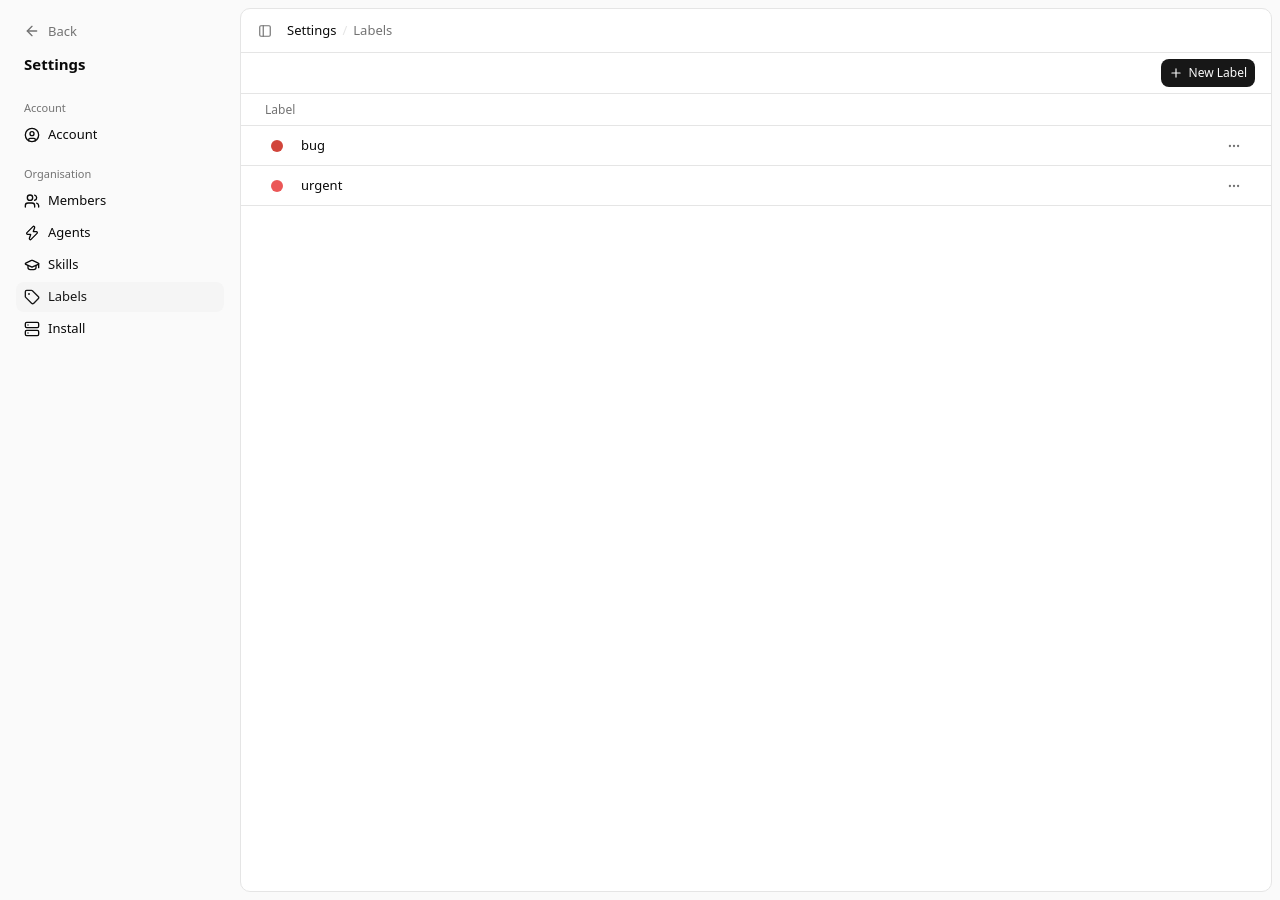
Test case: Settings › Organisation › Labels › Delete asks first and says how many Tasks, open and ended, stop carrying it
Click the button named "More for bug": coordinates (1234, 146) [1221,132,1247,158]
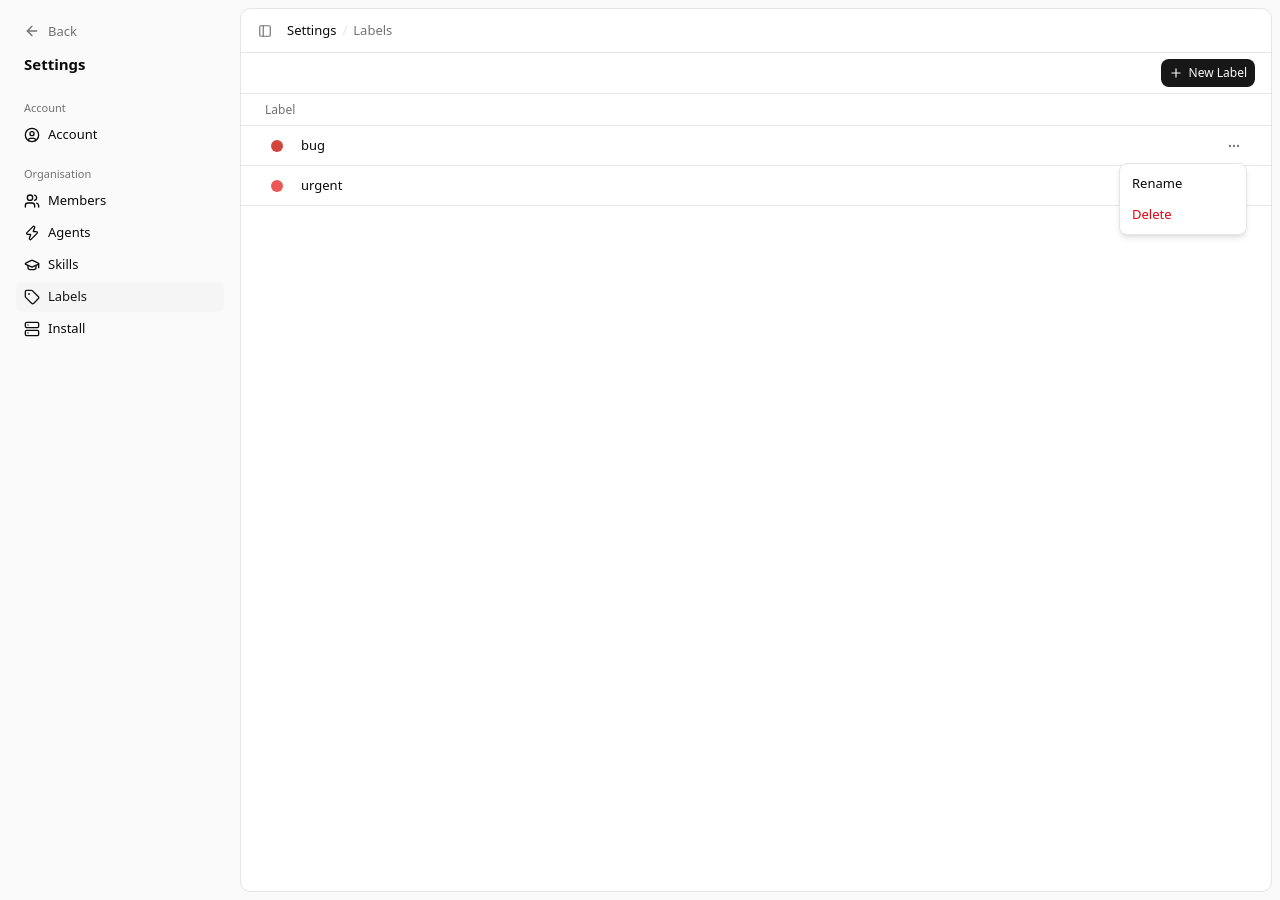
Click the menu item "Delete": coordinates (1152, 214) [1132,205,1172,223]
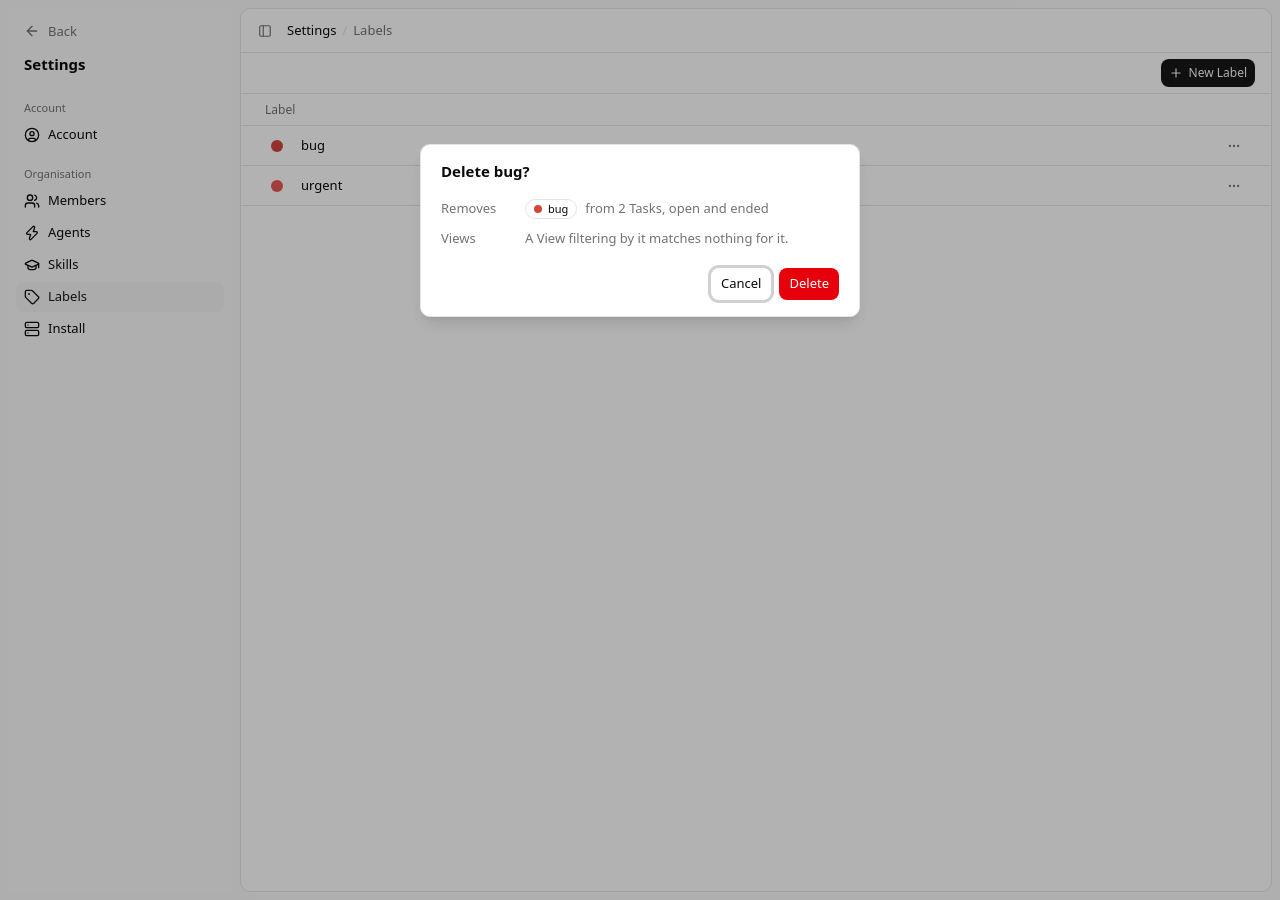
Now the text "from 2 Tasks, open and ended" is shown, box [585,199,769,218]
Click the button "Delete": coordinates (809, 284) [780,268,839,300]
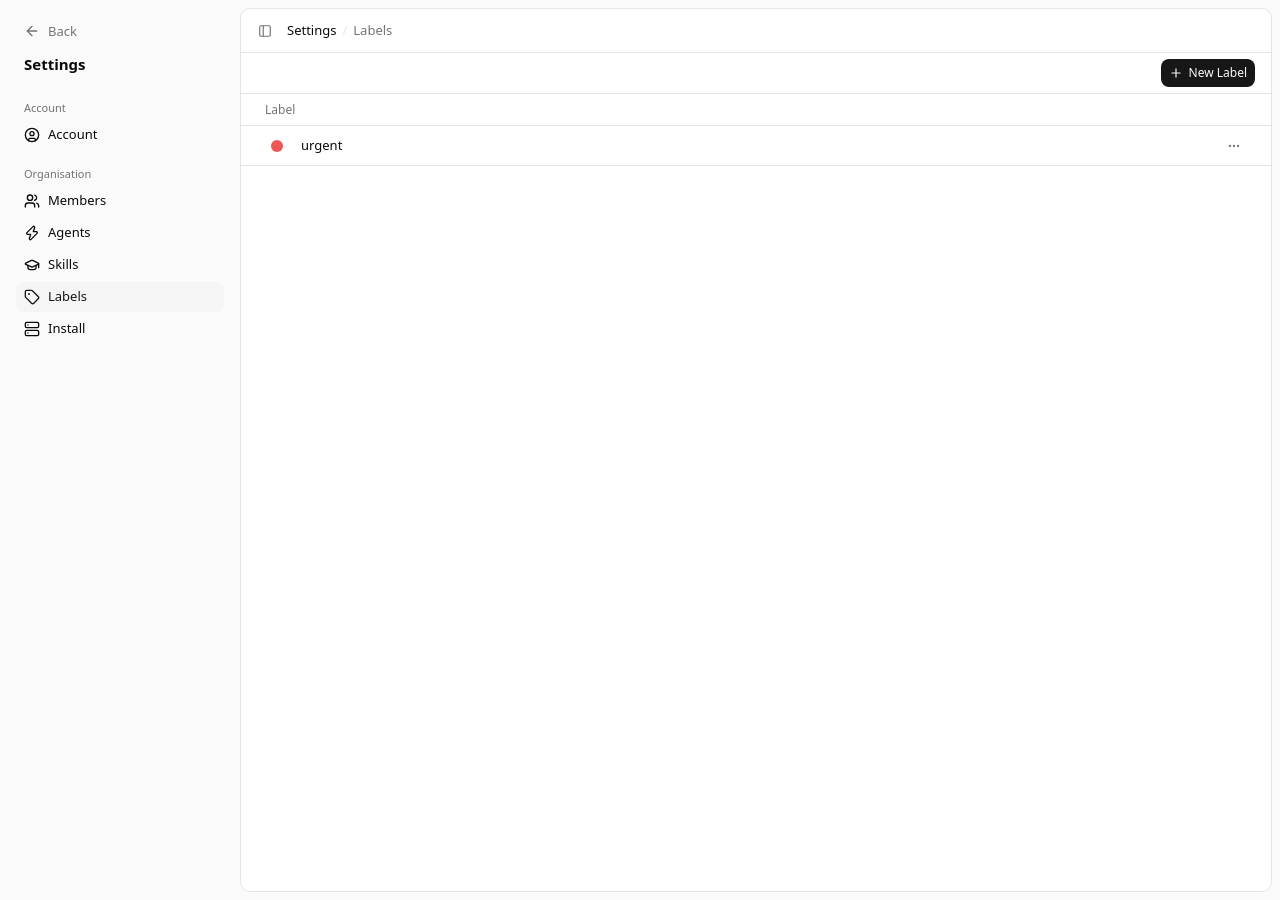
Now the button "bug" is gone
